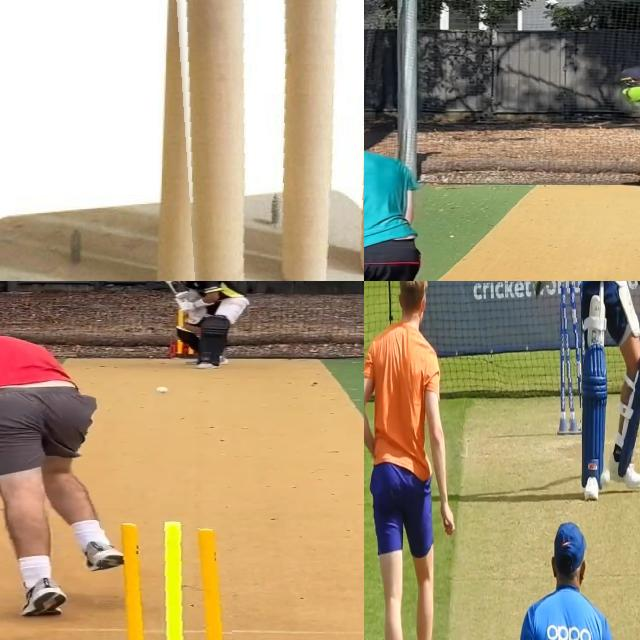Cricket ball: (156, 386, 169, 394)
Stumps: (158, 0, 364, 281), (98, 522, 231, 640), (558, 281, 581, 434)
